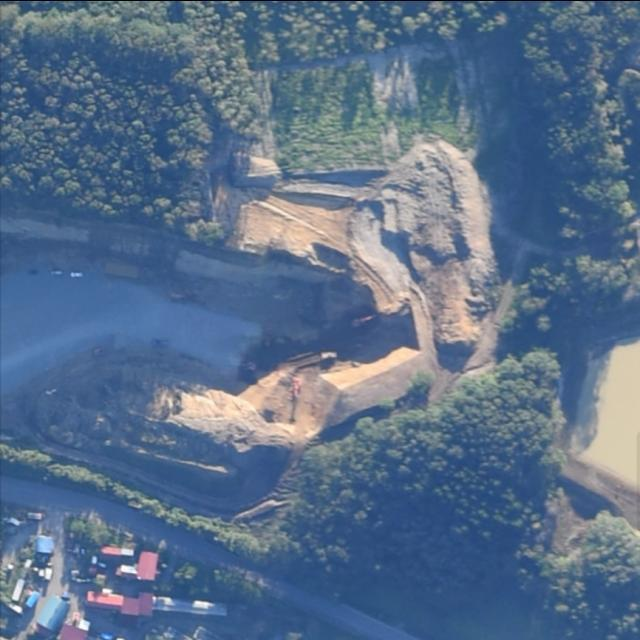landslide: (146, 136, 496, 452)
